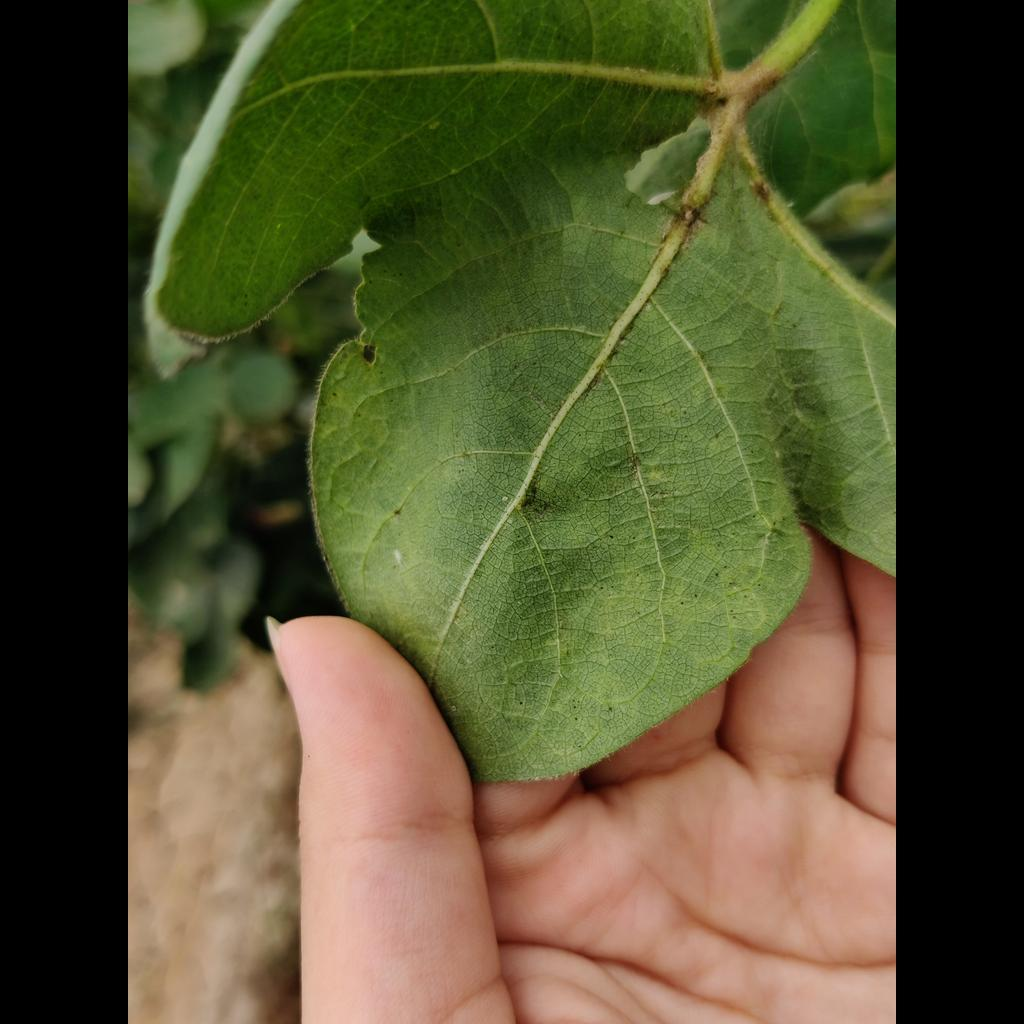nymph: (502, 496, 509, 503), (451, 705, 457, 712)
